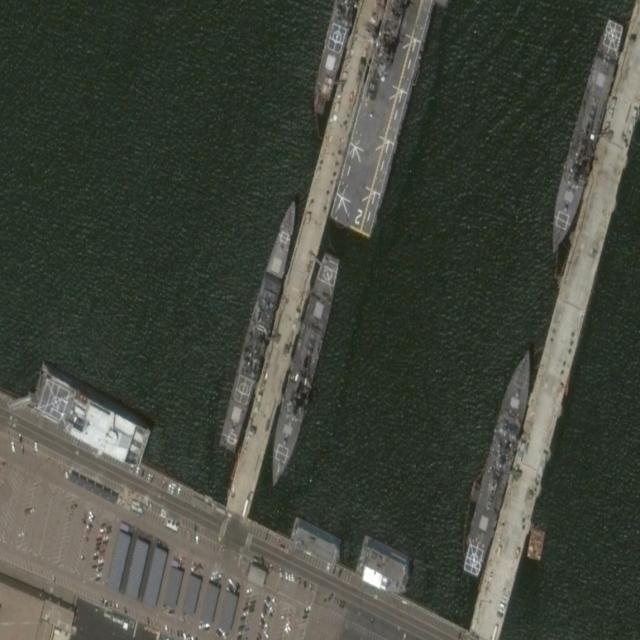Cruiser: (216, 193, 304, 458)
Destroyer: (540, 15, 628, 261), (262, 249, 343, 495), (456, 343, 538, 581)
Landing: (328, 1, 433, 241)
